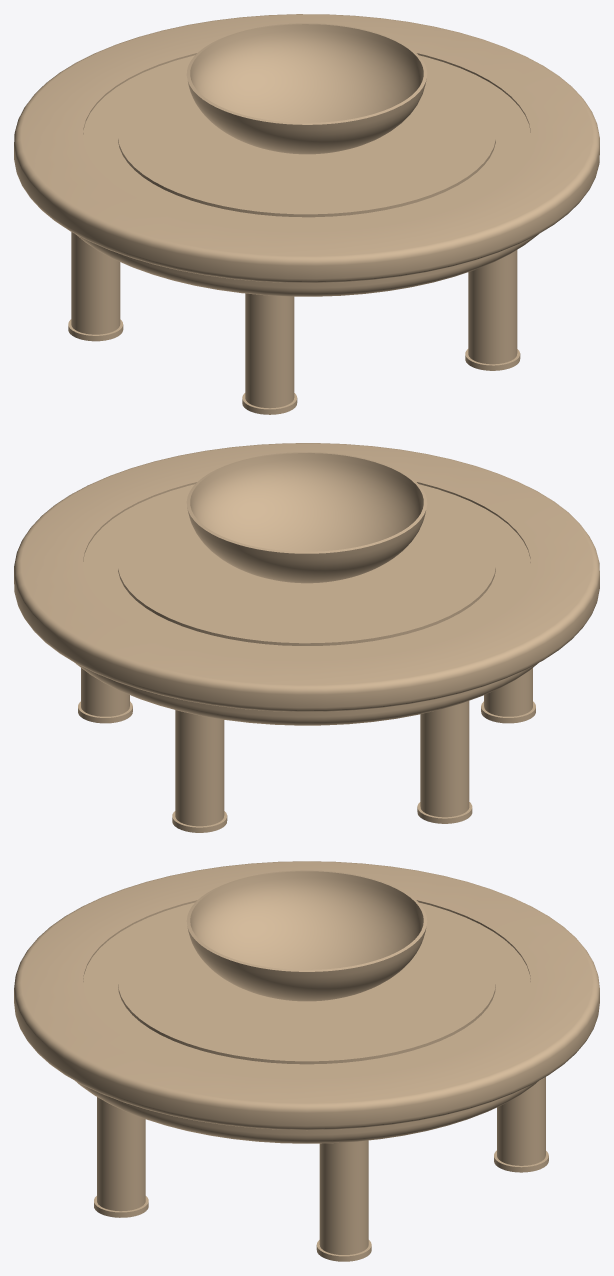
Rendered from SM_table_02.glb.
3 renders of one model, top to bottom at view 1: azimuth 30°, elevation 25°; view 2: azimuth 150°, elevation 25°; view 3: azimuth 270°, elevation 25°, orthographic.
Parts seen in each view (by area): view 1: SM_table_02; view 2: SM_table_02; view 3: SM_table_02.
Boxes of the visible parts, x1=… form: SM_table_02: x1=14, y1=14, x2=599, y2=414; SM_table_02: x1=14, y1=443, x2=599, y2=832; SM_table_02: x1=14, y1=861, x2=599, y2=1261.
Size of the model in its own units: 1.19 by 0.5405 by 1.19.
